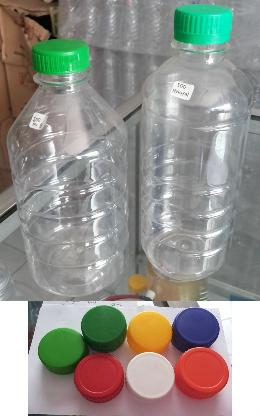Plastic Bottle: (5, 34, 128, 298), (138, 6, 252, 288)
